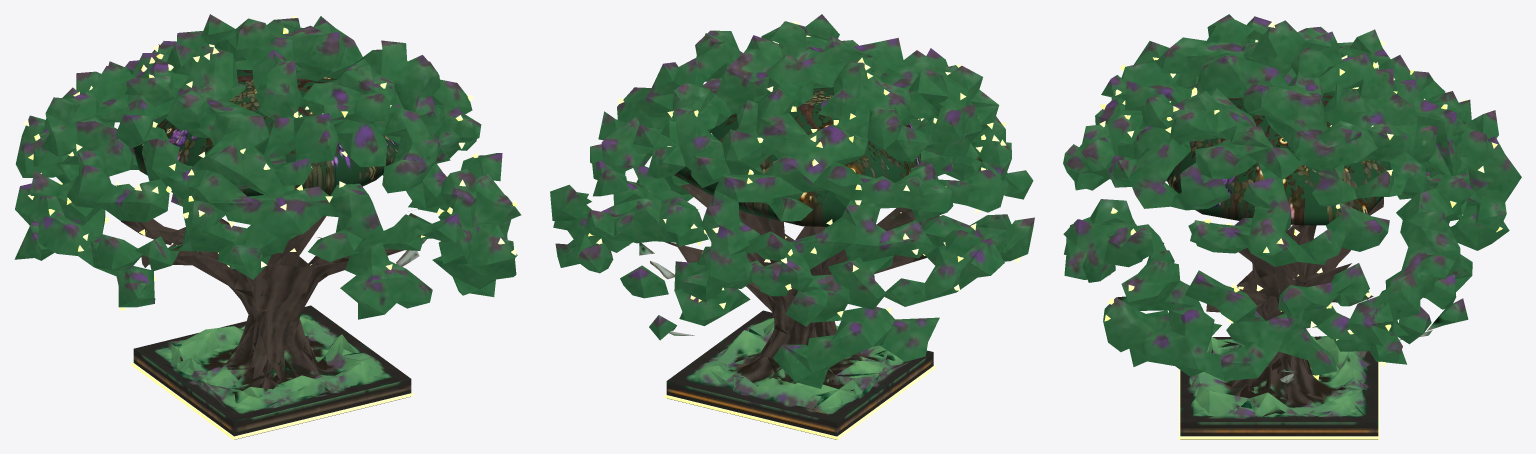
File: tree_banyan.glb
3 views of the same model, side by side, from view 1: azimuth 30°, elevation 25°; view 2: azimuth 150°, elevation 25°; view 3: azimuth 270°, elevation 25° (orthographic). The views are drawn at different scales.
Parts seen in each view (by area): view 1: body, canopy, lights, light; view 2: body, canopy, lights, light; view 3: body, canopy, lights, light.
Part boxes in pixels (x1,y1,x2,y2): body: (14,14,521,439); canopy: (132,69,399,196); lights: (22,16,518,310); light: (131,362,413,439); body: (550,14,1034,439); canopy: (674,87,921,226); lights: (580,20,1020,317); light: (664,365,935,439); body: (1063,14,1521,439); canopy: (1166,93,1390,225); lights: (1099,21,1502,379); light: (1178,361,1379,439).
Size of the model in its own units: 12.53 by 9.86 by 11.82.
Materials: 4 (2 with a texture image).
